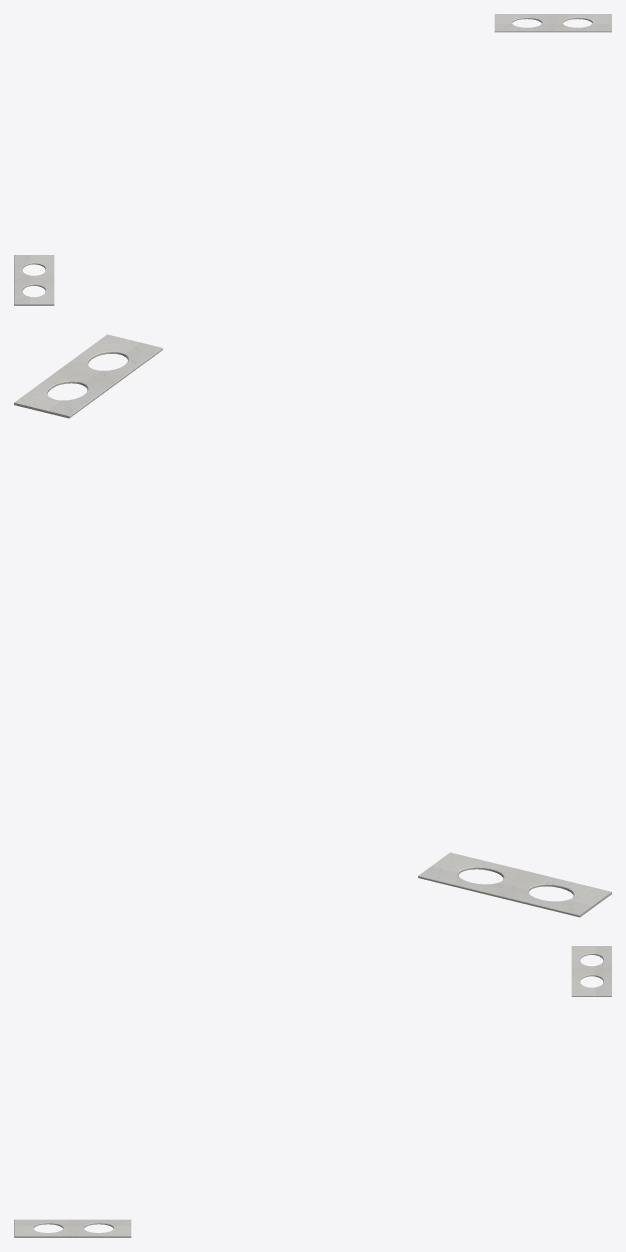
Rendered from Countertops_Quartz_Calacatta_Karmelo.glb.
The picture shows the model from 3 angles, top to bottom: view 1: azimuth 90°, elevation 25°; view 2: azimuth 150°, elevation 25°; view 3: azimuth 270°, elevation 25°; orthographic projection. The views are drawn at different scales.
Visible parts, largest first — view 1: Countertop_quartz_calacatta_karmelo; view 2: Countertop_quartz_calacatta_karmelo; view 3: Countertop_quartz_calacatta_karmelo.
Part boxes in pixels (<box>): Countertop_quartz_calacatta_karmelo: <box>14,14,611,305</box>; Countertop_quartz_calacatta_karmelo: <box>14,334,611,917</box>; Countertop_quartz_calacatta_karmelo: <box>14,946,611,1237</box>.
Size of the model in its own units: 17 by 0.04 by 14.8.
Materials: 1 (1 with a texture image).
